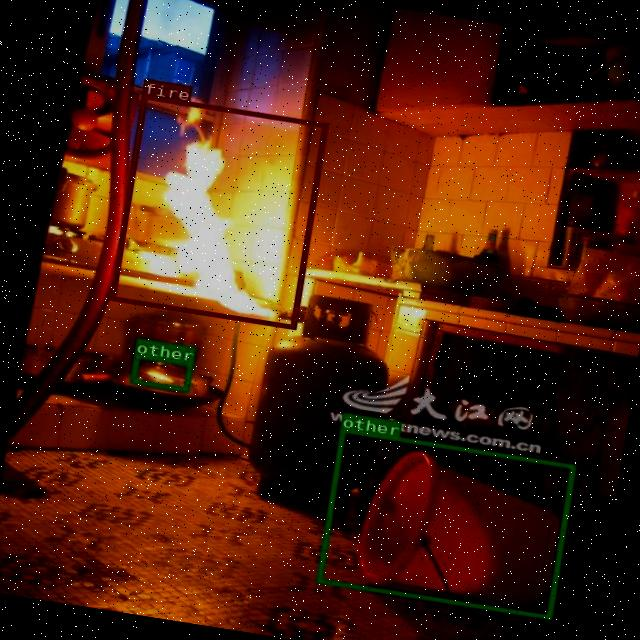fire: (109, 93, 328, 329)
